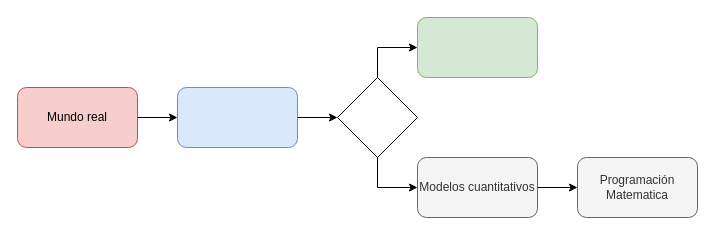
Some shapes in this 715 by 235 pixel diagram are drawn without their labels. Each missing label, with the centre of its shape:
Abstracción inicial: the point at 237,117
Modelos cualitativos: the point at 477,47
